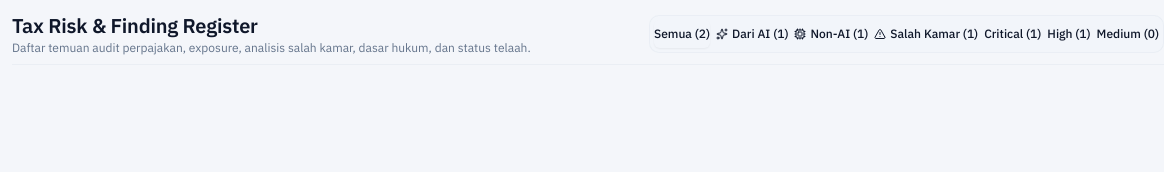
Test: TaxRiskRegister Component › filters findings by engine or risk level
This screenshot has width=1164, height=172.
# Filter to AI Claude
Click the button "Dari AI (1)": (752, 34) top-left (716, 20), bottom-right (788, 48)
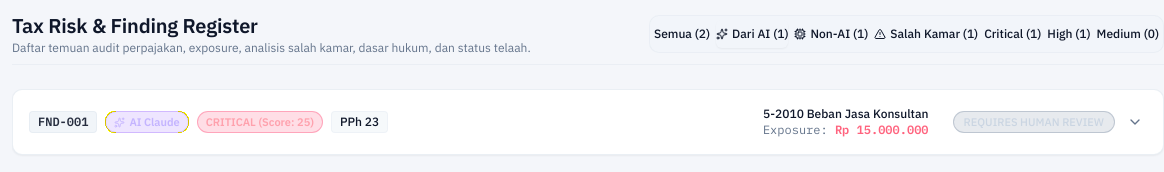
Check: the text "FND-001" is shown, box top-left (29, 111), bottom-right (97, 133)
